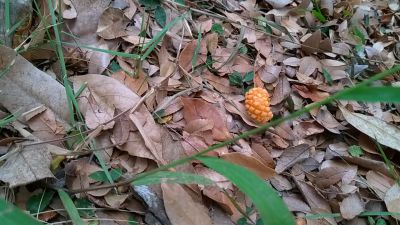eggs: (243, 83, 276, 126)
